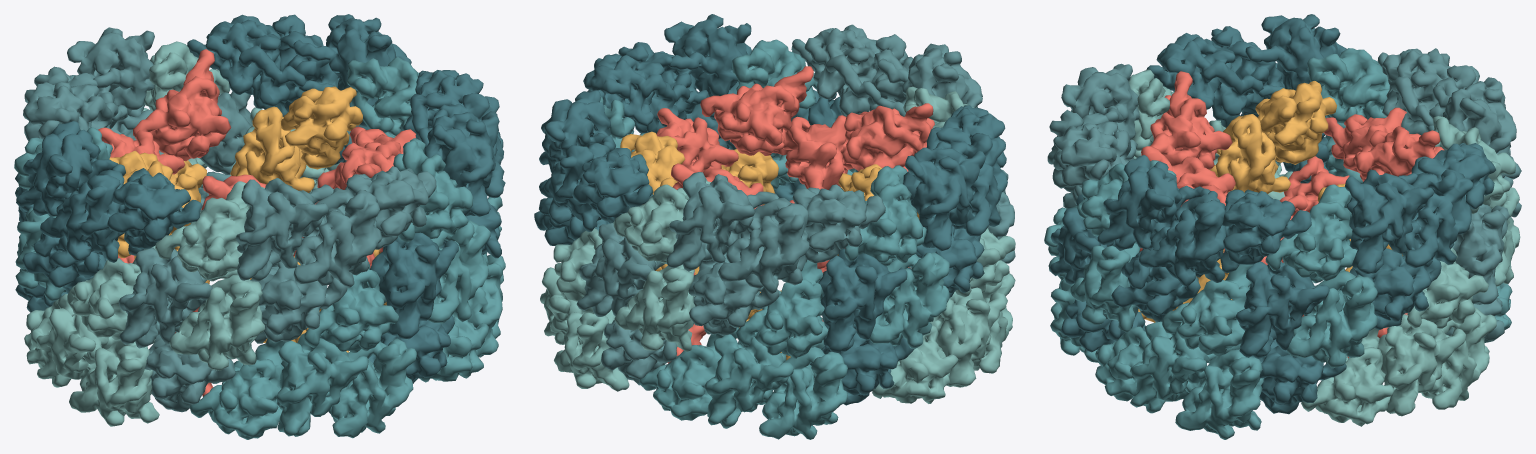
File: hemocyanin.glb
3 views of the same model, side by side, from view 1: azimuth 30°, elevation 25°; view 2: azimuth 150°, elevation 25°; view 3: azimuth 270°, elevation 25° (orthographic). The views are drawn at different scales.
Parts seen in each view (by area): view 1: FU_H_c, FU_H_b, FU_B_a, FU_G_e, FU_H_e, FU_I_b, FU_D_d-star, FU_J_e, FU_I_a, FU_I_c, FU_G_c, FU_F_c (+40 smaller); view 2: FU_D_c, FU_D_b, FU_F_c, FU_J_d-star, FU_F_e, FU_E_c, FU_H_a, FU_E_b, FU_E_d, FU_E_e, FU_C_e, FU_J_a (+40 smaller); view 3: FU_B_c, FU_A_e, FU_B_e, FU_J_c, FU_A_c, FU_J_b, FU_F_a, FU_C_b, FU_J_a, FU_A_f, FU_A_d, FU_B_b (+39 smaller).
Boxes of the visible parts, x1,y1,x2,y2 form: FU_H_c: (236, 178, 333, 281); FU_H_b: (293, 188, 382, 287); FU_B_a: (187, 14, 305, 116); FU_G_e: (169, 274, 264, 370); FU_H_e: (118, 247, 212, 348); FU_I_b: (276, 333, 368, 436); FU_D_d-star: (133, 49, 231, 161); FU_J_e: (369, 232, 458, 339); FU_I_a: (189, 339, 288, 439); FU_I_c: (328, 338, 416, 438); FU_G_c: (69, 340, 159, 426); FU_F_c: (16, 121, 125, 216); FU_D_c: (666, 172, 779, 271); FU_D_b: (718, 198, 809, 293); FU_F_c: (903, 141, 985, 251); FU_J_d-star: (700, 66, 813, 155); FU_F_e: (818, 248, 907, 352); FU_E_c: (758, 347, 847, 439); FU_H_a: (791, 24, 881, 116); FU_E_b: (704, 334, 793, 428); FU_E_d: (736, 260, 828, 358); FU_E_e: (869, 252, 949, 348); FU_C_e: (614, 265, 695, 351); FU_J_a: (583, 53, 690, 133); FU_B_c: (1345, 169, 1434, 273); FU_A_e: (1286, 271, 1378, 368); FU_B_e: (1235, 261, 1329, 358); FU_J_c: (1097, 155, 1210, 250); FU_A_c: (1175, 349, 1263, 439); FU_J_b: (1139, 191, 1225, 286); FU_F_a: (1146, 33, 1263, 127); FU_C_b: (1377, 314, 1465, 416); FU_J_a: (1220, 189, 1311, 273); FU_A_f: (1265, 184, 1357, 283); FU_A_d: (1162, 264, 1252, 356); FU_B_b: (1402, 169, 1473, 268).
Bounding box in the file's own units: 32.05 × 18.42 × 31.94.
